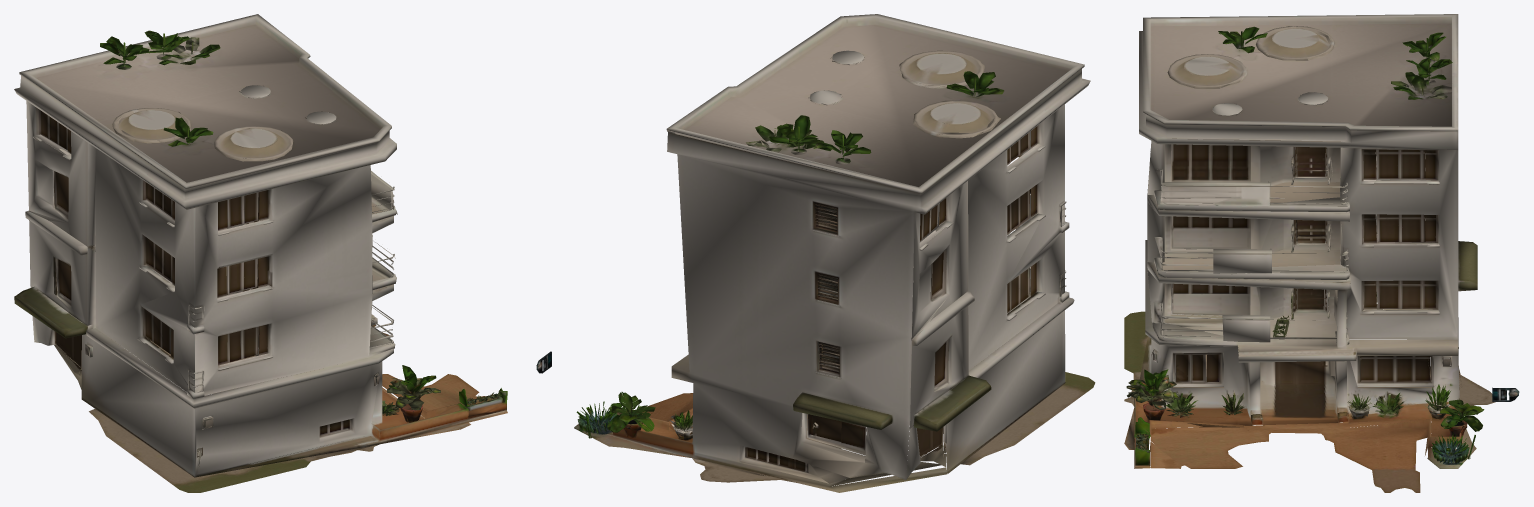
The model's file is environment.courtyard-apartments-01.lod1.glb.
3 views of the same model, side by side, from view 1: azimuth 30°, elevation 25°; view 2: azimuth 150°, elevation 25°; view 3: azimuth 270°, elevation 25° (orthographic). The views are drawn at different scales.
Visible parts, largest first — view 1: environment.courtyard-apartments-01_LOD1_00; view 2: environment.courtyard-apartments-01_LOD1_00; view 3: environment.courtyard-apartments-01_LOD1_00.
Boxes of the visible parts, bbox=[...] form: environment.courtyard-apartments-01_LOD1_00: bbox=[14, 14, 507, 492]; environment.courtyard-apartments-01_LOD1_00: bbox=[536, 14, 1095, 492]; environment.courtyard-apartments-01_LOD1_00: bbox=[1124, 14, 1519, 492].
Bounding box in the file's own units: 9 × 8.44 × 9.01.
Materials: 1 (1 with a texture image).
